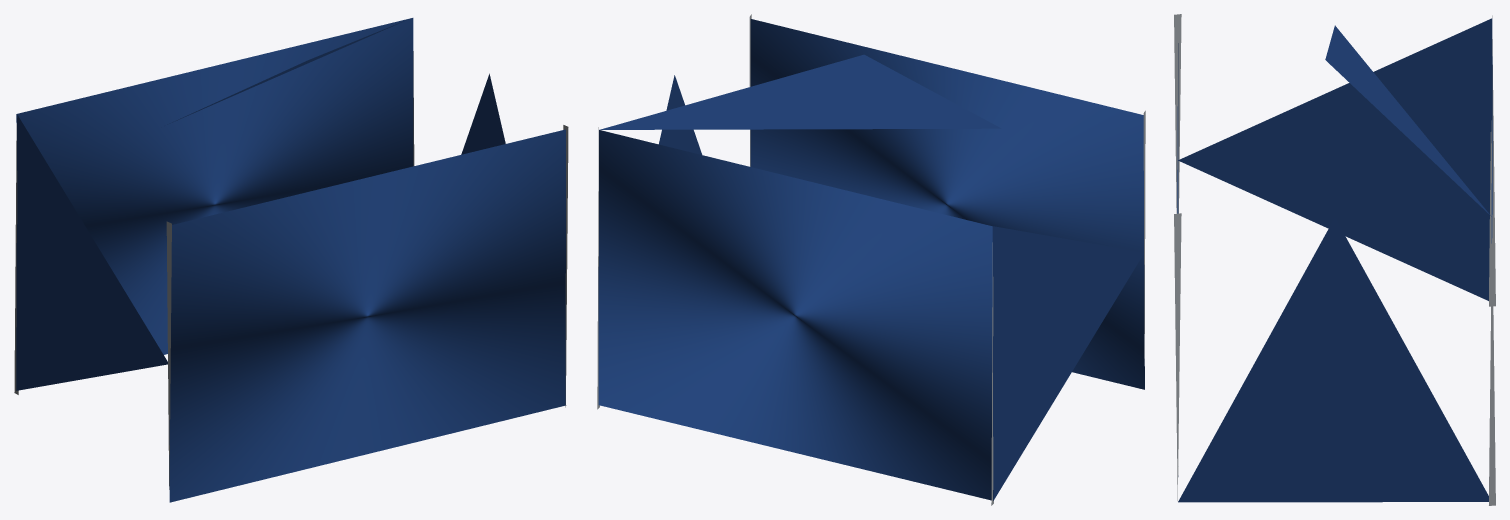
Rendered from medical_tent_lod2.glb.
3 views of the same model, side by side, from view 1: azimuth 30°, elevation 25°; view 2: azimuth 150°, elevation 25°; view 3: azimuth 270°, elevation 25° (orthographic). The views are drawn at different scales.
Parts seen in each view (by area): view 1: medical_tent__tint_team_secondary, medical_tent__prop_steel; view 2: medical_tent__tint_team_secondary, medical_tent__prop_steel; view 3: medical_tent__tint_team_secondary, medical_tent__prop_steel.
Part boxes in pixels (x1=…): medical_tent__tint_team_secondary: x1=16, y1=18, x2=566, y2=502; medical_tent__prop_steel: x1=14, y1=51, x2=568, y2=489; medical_tent__tint_team_secondary: x1=598, y1=19, x2=1144, y2=500; medical_tent__prop_steel: x1=597, y1=14, x2=1145, y2=505; medical_tent__tint_team_secondary: x1=1177, y1=18, x2=1492, y2=502; medical_tent__prop_steel: x1=1174, y1=14, x2=1495, y2=505.
Bounding box in the file's own units: 3.01 × 2.47 × 2.05.
